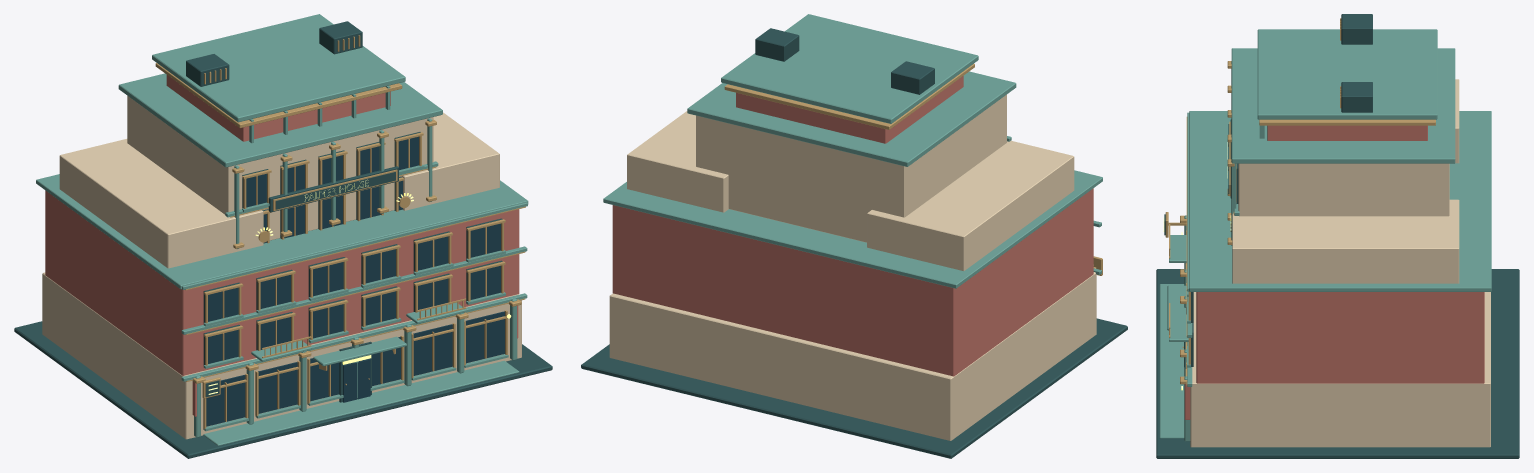
File: sunport-artdeco-hotel.glb
3 renders of one model, left to right at view 1: azimuth 30°, elevation 25°; view 2: azimuth 150°, elevation 25°; view 3: azimuth 270°, elevation 25°, orthographic. The views are drawn at different scales.
Visible parts, largest first — view 1: SM_SunportArtDecoHotel_LOD0; view 2: SM_SunportArtDecoHotel_LOD0; view 3: SM_SunportArtDecoHotel_LOD0.
Boxes of the visible parts, x1=… form: SM_SunportArtDecoHotel_LOD0: x1=14, y1=14, x2=552, y2=458; SM_SunportArtDecoHotel_LOD0: x1=581, y1=14, x2=1127, y2=458; SM_SunportArtDecoHotel_LOD0: x1=1156, y1=14, x2=1519, y2=458.
Size of what is drawn, in the model's own units: 25.2 by 19.66 by 20.8.
